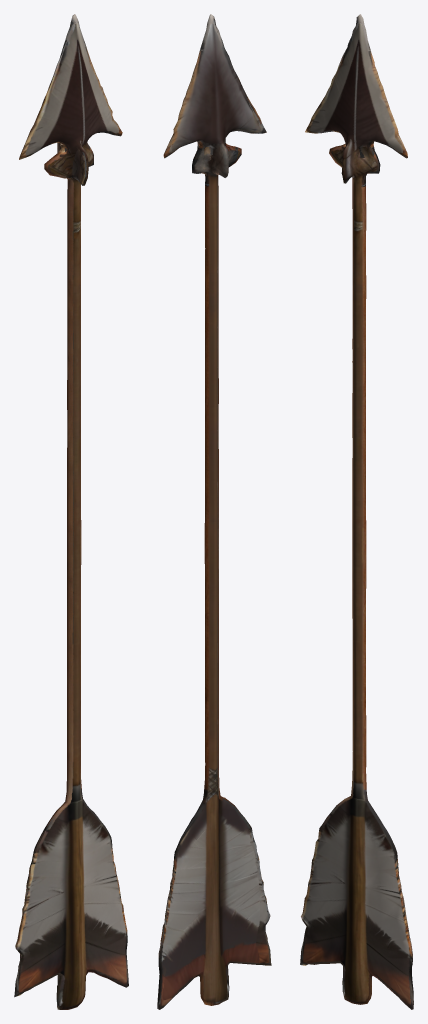
File: DefaultArrow.fbx
The picture shows the model from 3 angles, left to right: view 1: azimuth 30°, elevation 25°; view 2: azimuth 210°, elevation 25°; view 3: azimuth 330°, elevation 25°; orthographic projection.
Visible parts, largest first — view 1: input; view 2: input; view 3: input.
Part boxes in pixels (x1=…): input: x1=14, y1=14, x2=128, y2=1009; input: x1=157, y1=14, x2=271, y2=1009; input: x1=300, y1=14, x2=413, y2=1009.
Size of the model in its own units: 80 by 665 by 35.97.
Materials: 1 (1 with a texture image).
